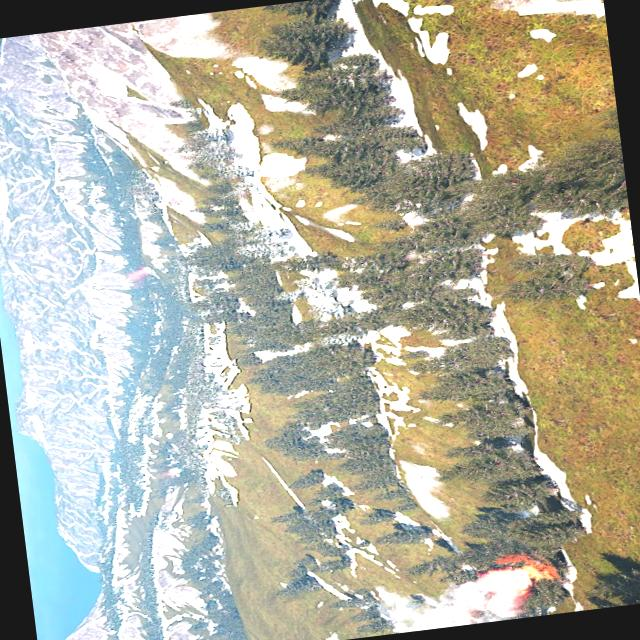fire: (481, 563, 548, 602), (135, 265, 150, 275), (166, 466, 180, 475)
smoke: (372, 573, 512, 635), (106, 268, 138, 284)
